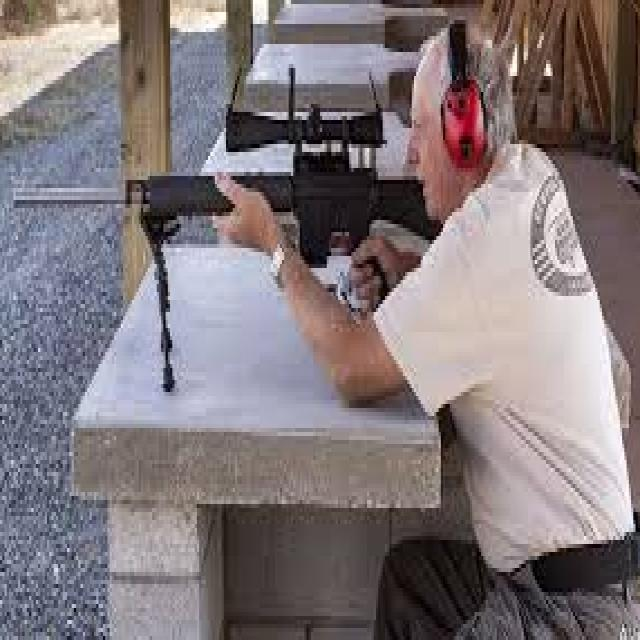gun: (9, 51, 438, 424)
